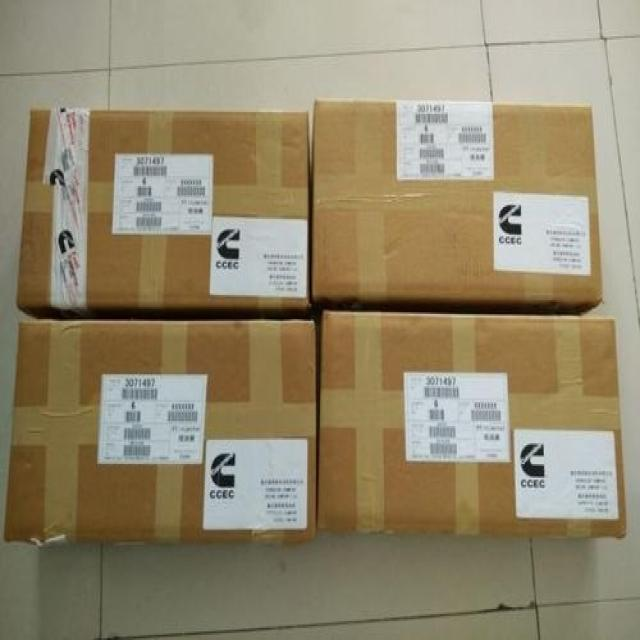box: (3, 315, 315, 544), (316, 308, 625, 534), (16, 107, 315, 318), (308, 99, 603, 312)
